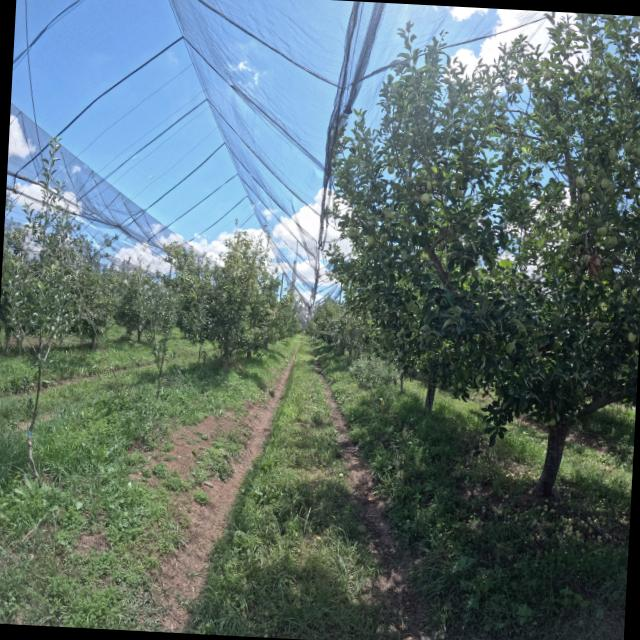-FireBlight-: (584, 259, 604, 277)
